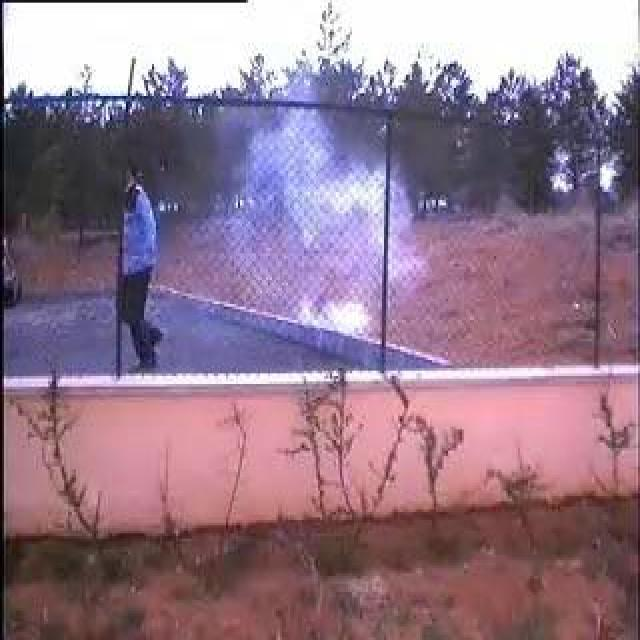Smoke: (233, 117, 389, 331)
